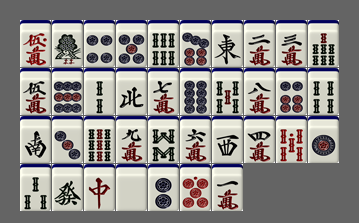0m: (20, 20, 51, 67)
0p: (180, 164, 211, 211)
0s: (276, 116, 307, 163)
1m: (212, 164, 243, 211)
1p: (308, 116, 339, 163)
1s: (52, 20, 83, 67)
1z: (212, 20, 243, 67)
2m: (244, 20, 275, 67)
2p: (148, 164, 179, 211)
2s: (84, 68, 115, 115)
2z: (20, 116, 51, 163)
3m: (276, 20, 307, 67)
3p: (52, 116, 83, 163)
3s: (20, 164, 51, 211)
3z: (212, 116, 243, 163)
4m: (244, 116, 275, 163)
4p: (84, 20, 115, 67)
4s: (308, 68, 339, 115)
4z: (116, 68, 147, 115)
5m: (20, 68, 51, 115)
5p: (116, 20, 147, 67)
5s: (212, 68, 243, 115)
5z: (116, 164, 147, 211)
6m: (180, 116, 211, 163)
6p: (276, 68, 307, 115)
6s: (148, 20, 179, 67)
6z: (52, 164, 83, 211)
7m: (148, 68, 179, 115)
7p: (180, 20, 211, 67)
7s: (308, 20, 339, 67)
7z: (84, 164, 115, 211)
8m: (244, 68, 275, 115)
8p: (180, 68, 211, 115)
8s: (148, 116, 179, 163)
9m: (116, 116, 147, 163)
9p: (52, 68, 83, 115)
9s: (84, 116, 115, 163)
